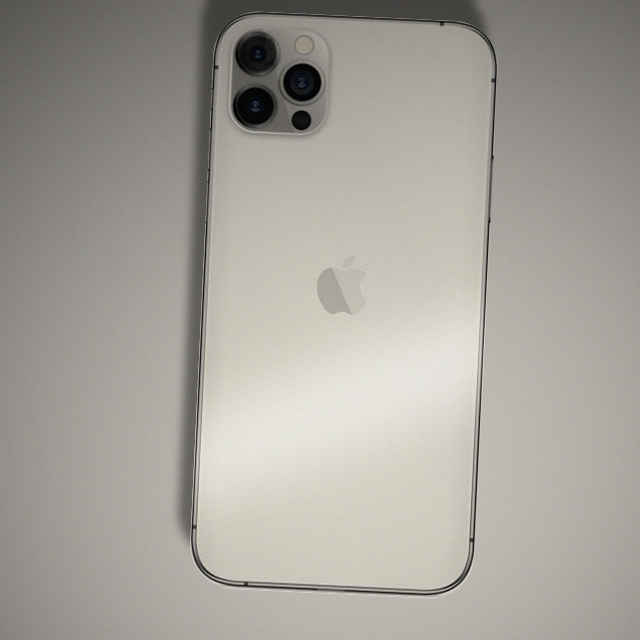iphone_12pro_silver: (141, 2, 550, 622), (221, 18, 344, 142)
